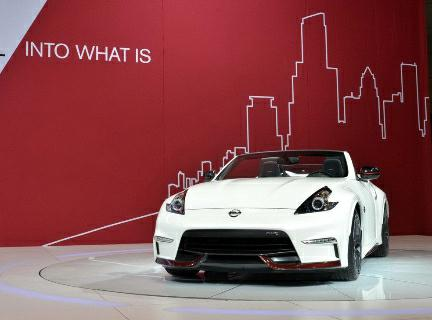日产-GT-R: (149, 143, 397, 284)
